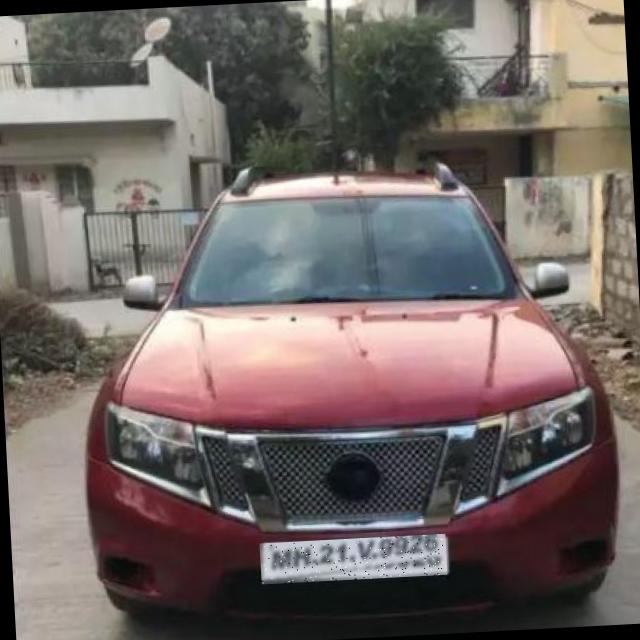Plate: (261, 535, 449, 586)
